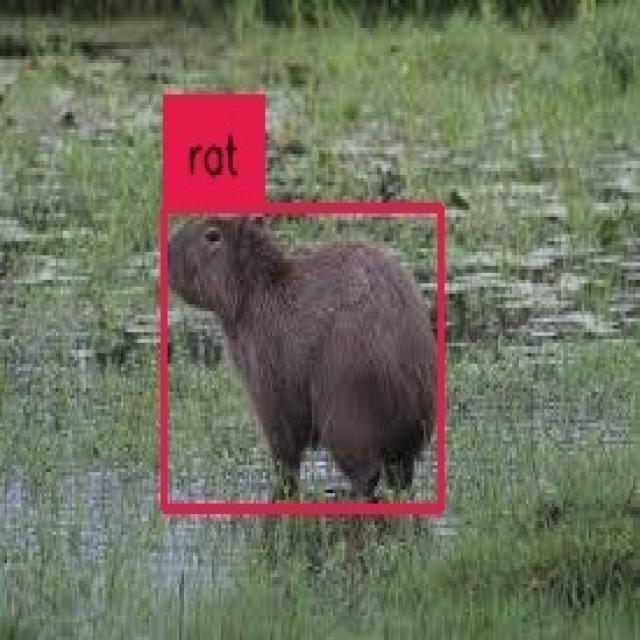rat: (163, 208, 442, 509)
